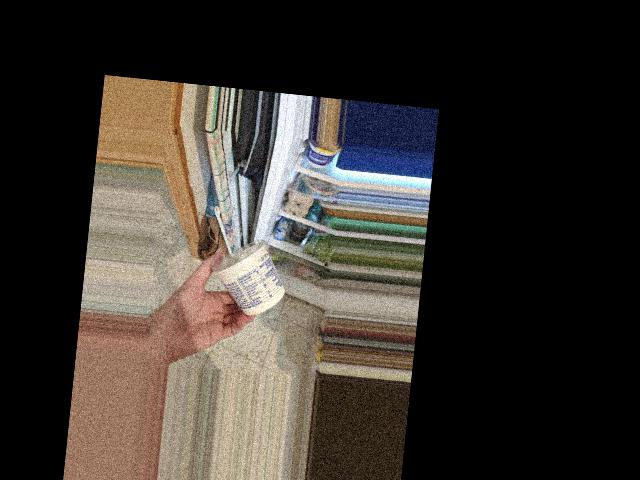cotage: (210, 231, 291, 320)
